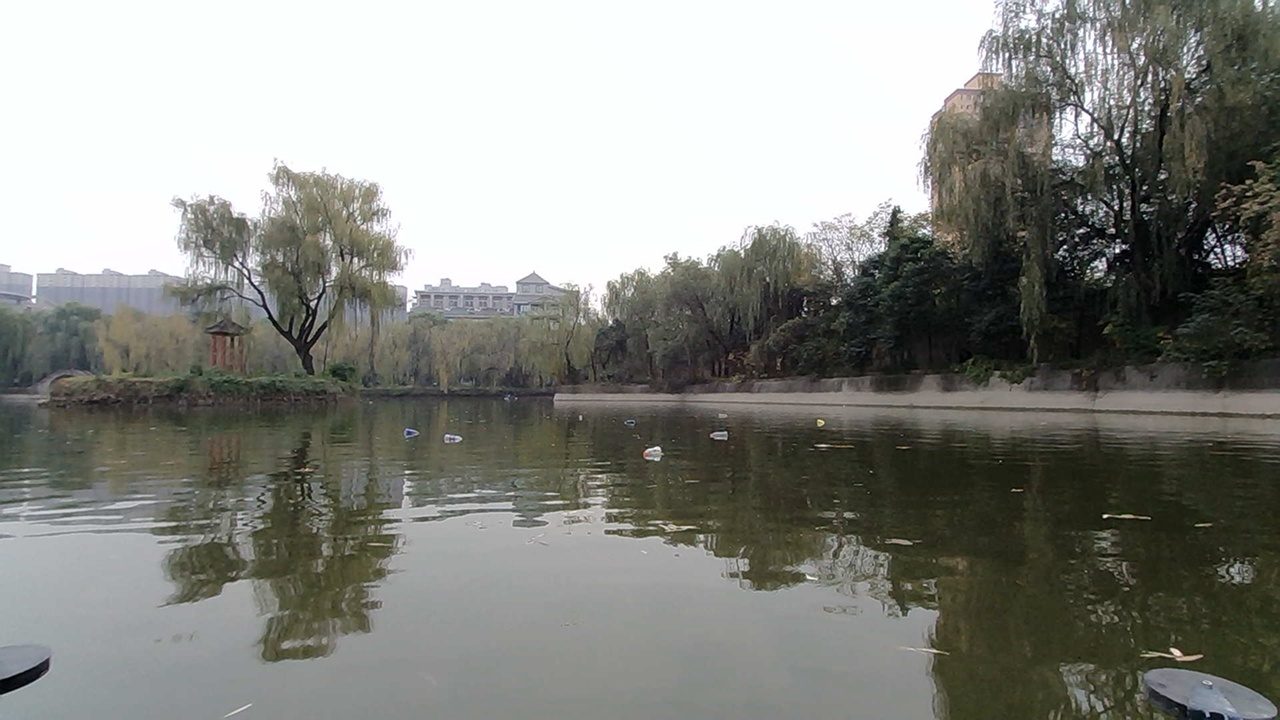bottle: (706, 415, 740, 445), (441, 423, 470, 449), (567, 403, 594, 429), (401, 423, 425, 450), (619, 406, 644, 430), (640, 444, 668, 465), (810, 413, 832, 437)
